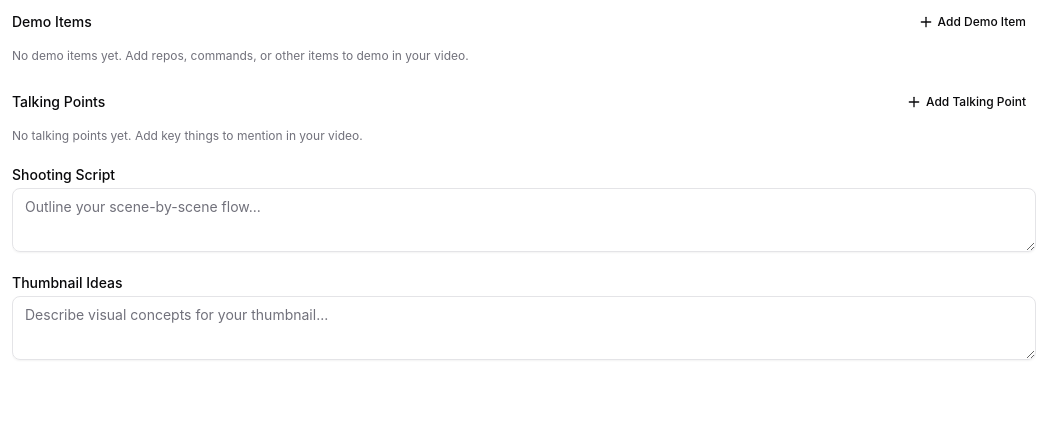
Test: ProductionTab › shows Save/Discard when shooting script is edited
Type "Scene 1" into the text box labelled "Shooting Script" at (524, 220), box [12,188,1036,252]
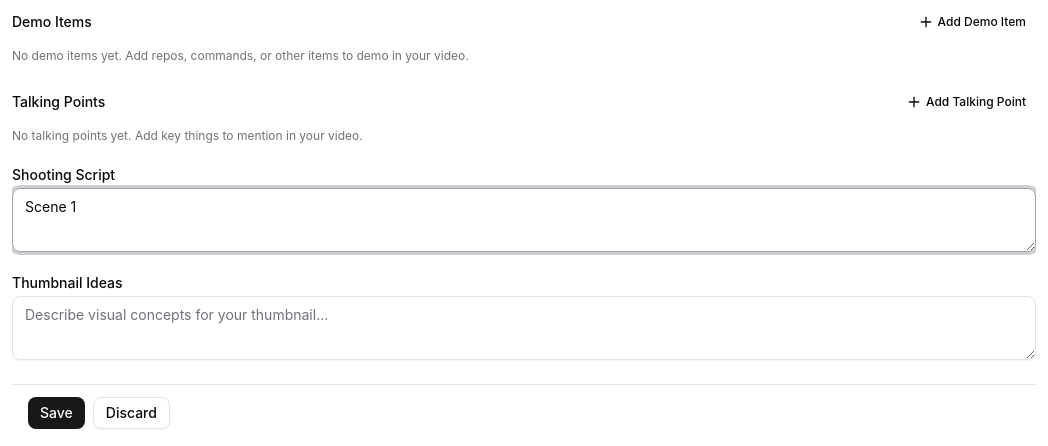
Expected: the button "Save" is shown, [28,397,85,429]
Expected: the button "Discard" is shown, [93,397,170,429]
